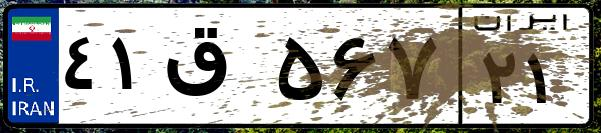1: (525, 38, 570, 115), (110, 28, 158, 98)
2: (475, 38, 525, 113)
4: (57, 26, 110, 100)
5: (270, 28, 330, 110)
6: (330, 28, 385, 110)
7: (385, 28, 445, 110)
ق: (158, 20, 270, 120)
